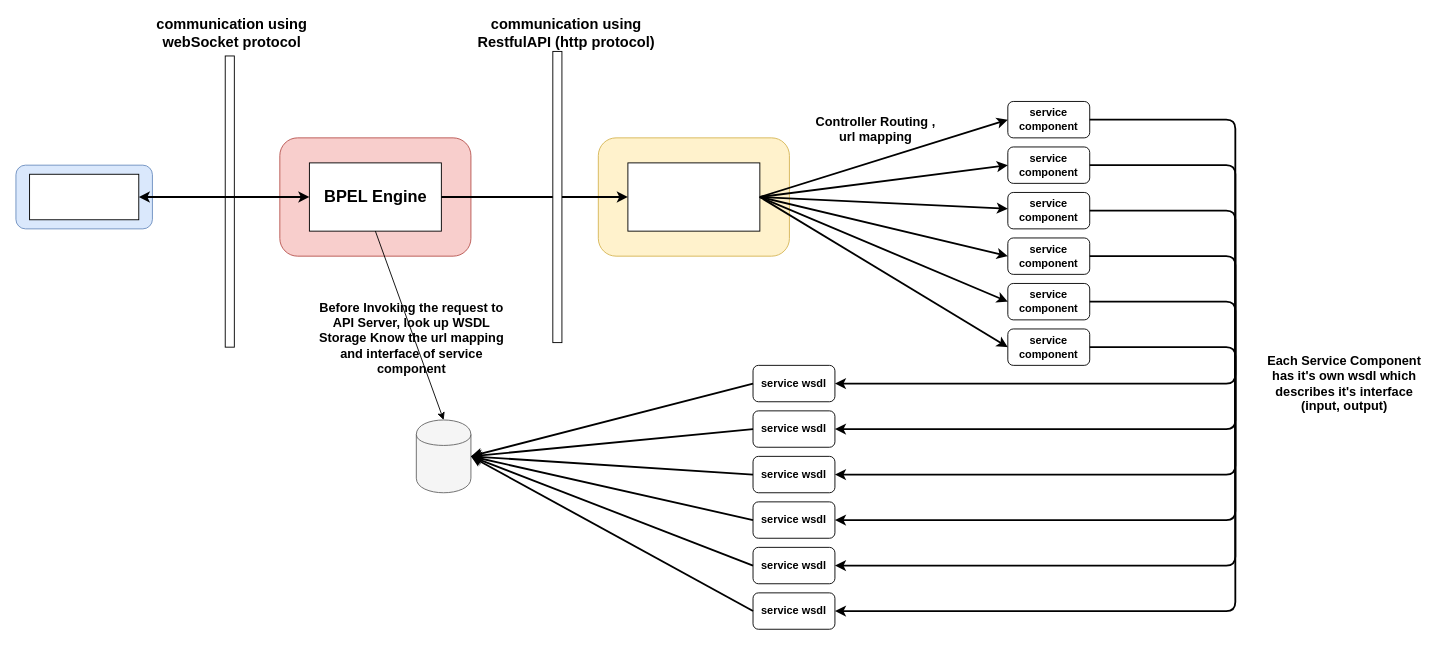
The diagram is 1442 pixels wide and 645 high, and some of its shapes have lost their labels. The shapes that lost their labels are listed below. From the top down, each one's box as (x1, y1, x2, y2) in pixels, then its label:
(29, 173, 139, 220): Web Application (Angular)
(627, 162, 760, 231): API Server (Spring)
(415, 419, 471, 493): WSDL Storage
